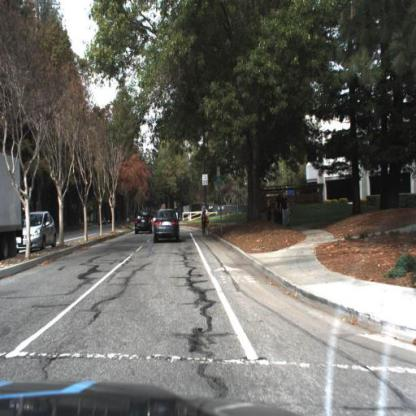car: (20, 209, 60, 252), (154, 208, 181, 244), (134, 208, 154, 237)
pedestrian: (279, 189, 291, 231), (200, 203, 212, 237), (201, 205, 208, 238), (283, 194, 289, 226), (279, 191, 284, 225), (267, 202, 272, 223)
truck: (2, 149, 25, 266)
